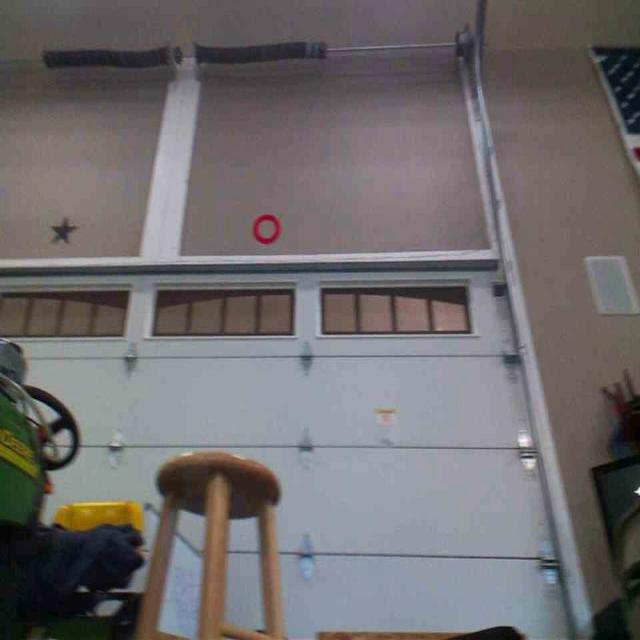ring_red: (251, 212, 282, 244)
star_black: (49, 215, 76, 244)
